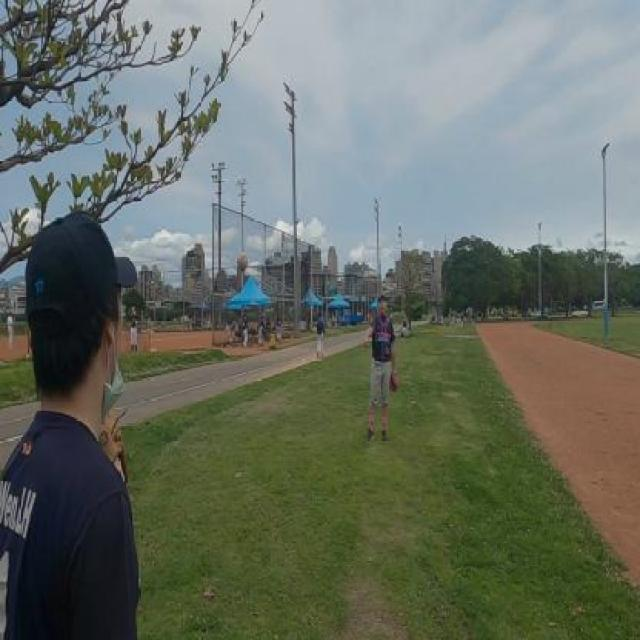sports ball: (235, 252, 249, 272)
